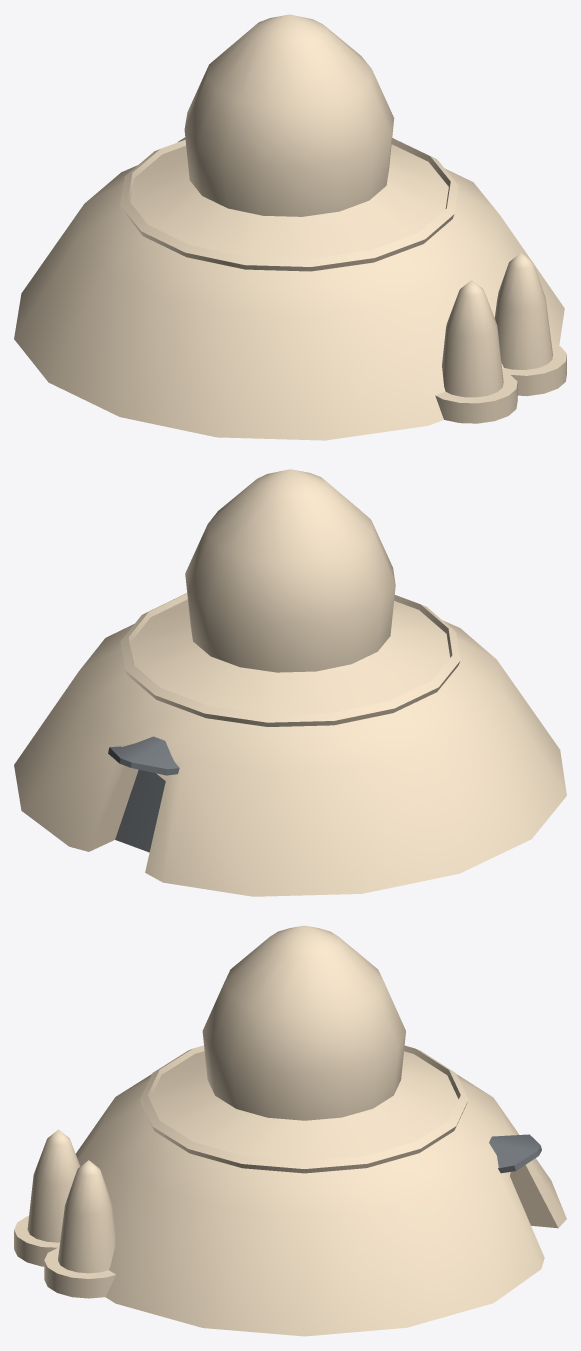
File: watto_shop.glb
3 renders of one model, top to bottom at view 1: azimuth 30°, elevation 25°; view 2: azimuth 150°, elevation 25°; view 3: azimuth 270°, elevation 25°, orthographic. The views are drawn at different scales.
Parts seen in each view (by area): view 1: Wattos_shop; view 2: Wattos_shop; view 3: Wattos_shop.
Boxes of the visible parts, x1,y1,x2,y2 form: Wattos_shop: [14, 14, 566, 440]; Wattos_shop: [14, 469, 566, 896]; Wattos_shop: [14, 925, 566, 1336].
Bounding box in the file's own units: 51.74 × 31.82 × 53.51.
